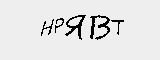В: (87, 12, 110, 39)
Н: (40, 18, 53, 37)
Р: (52, 17, 64, 37)
Т: (109, 16, 127, 35)
Я: (65, 12, 86, 40)
